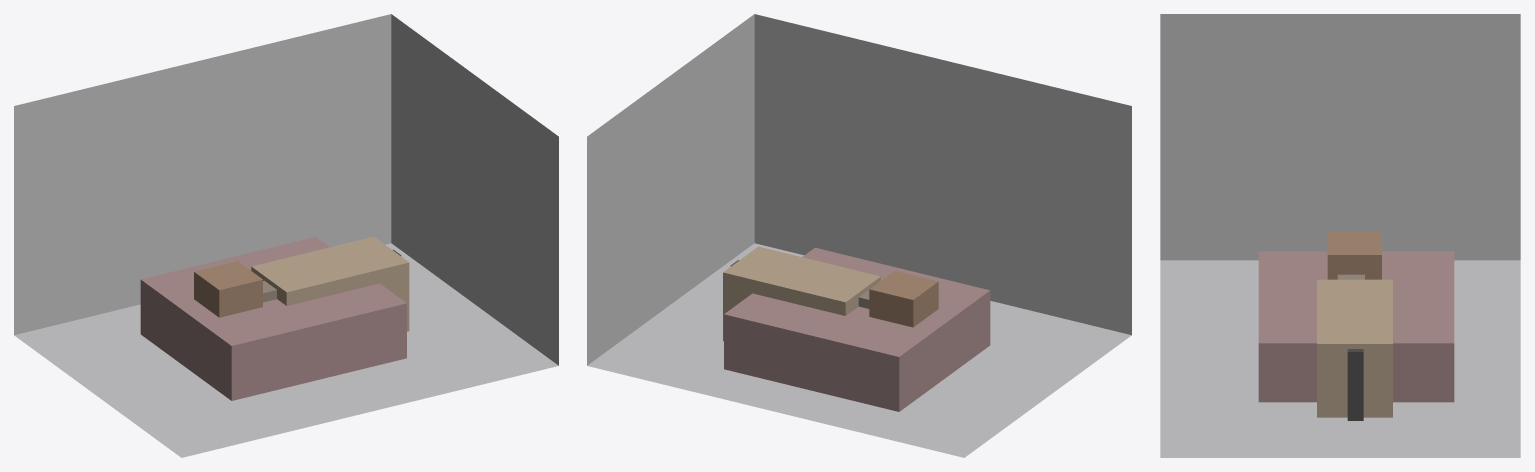
Rendered from optimised_layout.glb.
3 renders of one model, left to right at view 1: azimuth 30°, elevation 25°; view 2: azimuth 150°, elevation 25°; view 3: azimuth 270°, elevation 25°, orthographic. The views are drawn at different scales.
Parts seen in each view (by area): view 1: room, bed, desk, chair; view 2: room, bed, desk, chair; view 3: room, bed, desk, chair, tv.
Part boxes in pixels (box(x1,y1,x2,y2)): room: box(14, 14, 558, 457); bed: box(140, 236, 406, 400); desk: box(251, 236, 409, 331); chair: box(194, 261, 262, 317); room: box(587, 14, 1131, 457); bed: box(724, 247, 990, 411); desk: box(723, 246, 880, 341); chair: box(869, 271, 938, 327); room: box(1160, 14, 1520, 457); bed: box(1258, 251, 1454, 402); desk: box(1317, 279, 1392, 417); chair: box(1327, 232, 1381, 279); tv: box(1347, 349, 1363, 420).
Bounding box in the file's own units: 4.31 × 2.5 × 3.31.
